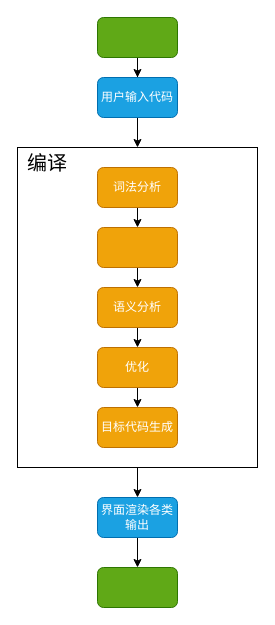
Some shapes in this 275 by 625 pixel diagram are drawn without their labels. The centre of each missing label's shape, as x and y in pixels:
"开始" belongs at point 137,37.
"结束" belongs at point 137,587.
"语法分析" belongs at point 137,247.
